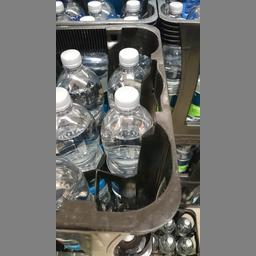water: (98, 86, 156, 172), (54, 86, 100, 172), (56, 44, 105, 116), (105, 48, 145, 102)
